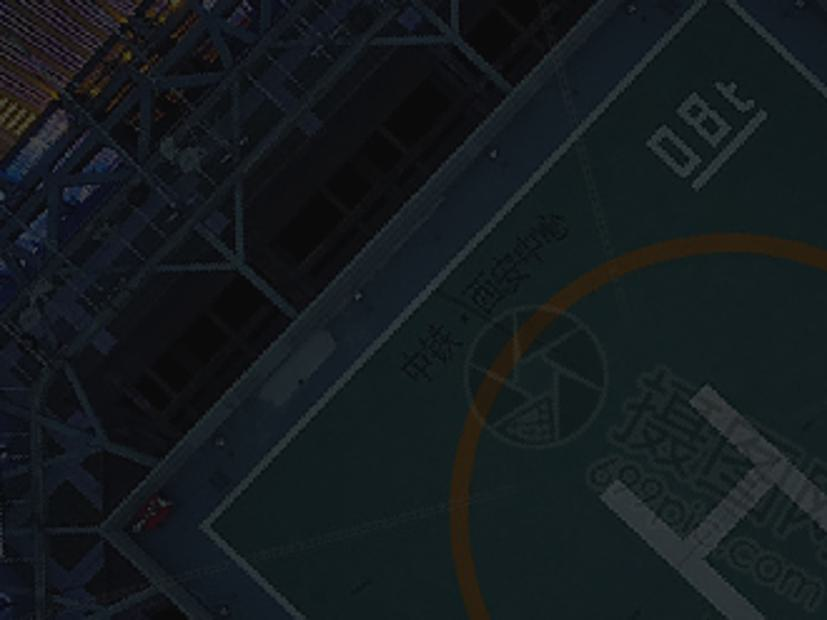Apron: (437, 219, 827, 616)
